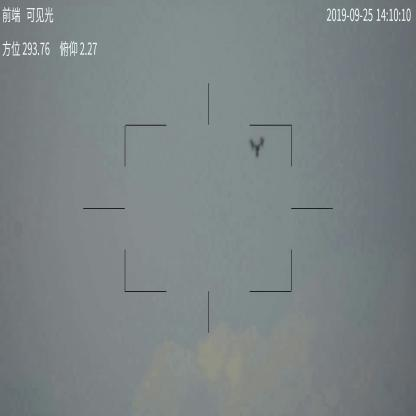uav: (249, 138, 267, 162)
